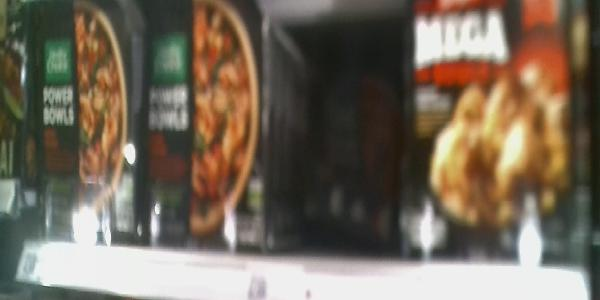pizza1: (410, 2, 576, 269), (140, 1, 267, 250), (12, 1, 140, 246)
